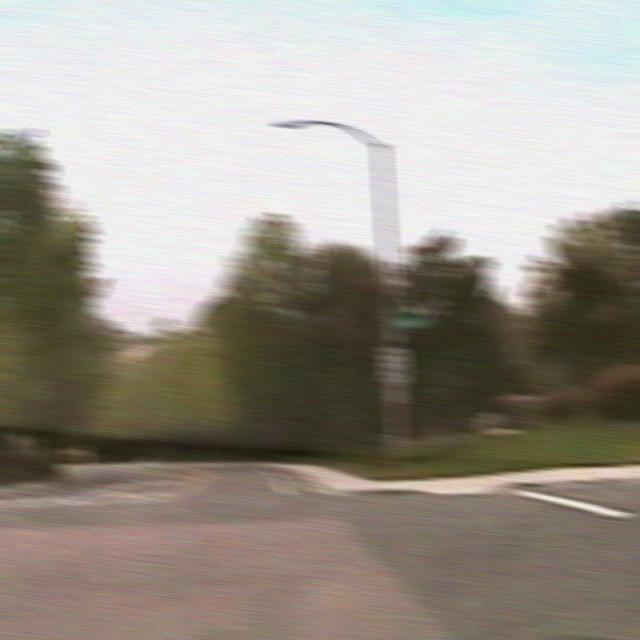speedLimit35: (379, 345, 409, 383)
